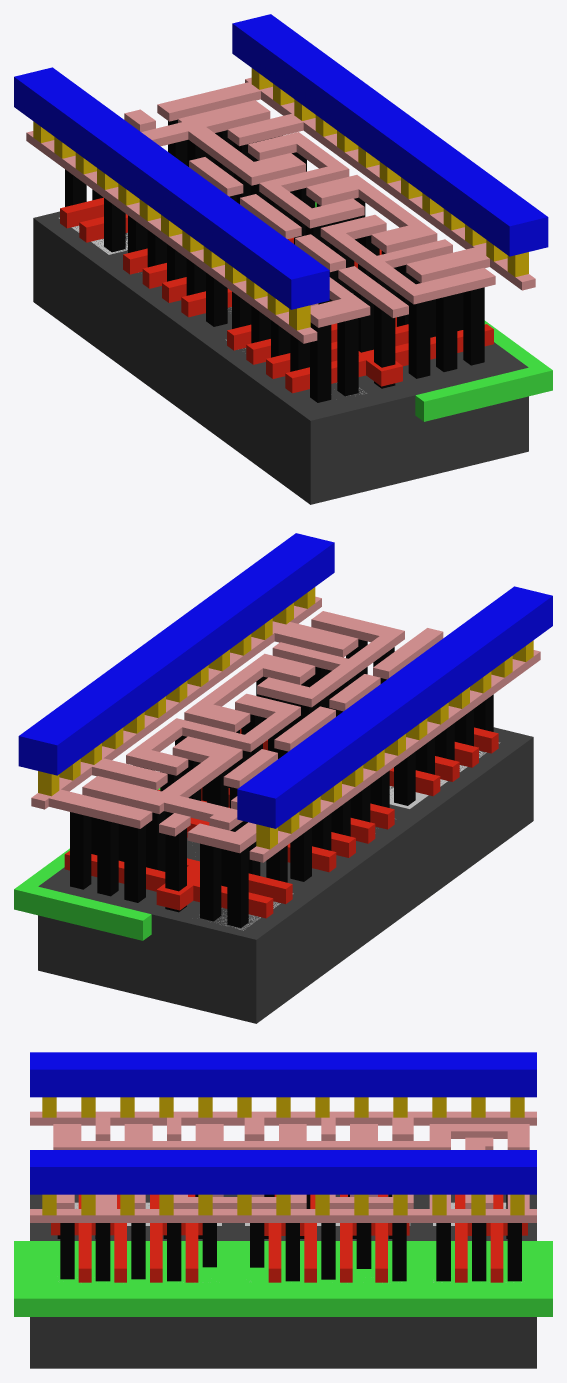
File: sky130_fd_sc_hd__o41ai_2.obj
The picture shows the model from 3 angles, top to bottom: view 1: azimuth 30°, elevation 25°; view 2: azimuth 150°, elevation 25°; view 3: azimuth 270°, elevation 25°; orthographic projection. The views are drawn at different scales.
Parts seen in each view (by area): view 1: subs, metal1, li, licon, poly, mcon, nwell; view 2: subs, metal1, li, licon, poly, mcon, nwell; view 3: metal1, nwell, subs, li, licon, poly, mcon.
Part boxes in pixels (x1,y1,x2,y2): subs: (33, 211, 528, 504); metal1: (14, 14, 548, 309); li: (26, 77, 535, 343); licon: (65, 119, 484, 402); poly: (60, 197, 493, 393); mcon: (33, 68, 528, 330); nwell: (315, 202, 552, 421); subs: (38, 727, 533, 1023); metal1: (18, 533, 552, 828); li: (31, 596, 540, 862); licon: (70, 639, 493, 927); poly: (64, 727, 498, 918); mcon: (38, 587, 533, 849); nwell: (14, 788, 160, 940); metal1: (30, 1052, 536, 1194); nwell: (14, 1241, 552, 1316); subs: (30, 1194, 536, 1368); li: (30, 1111, 536, 1222); licon: (57, 1194, 521, 1281); poly: (51, 1194, 527, 1282); mcon: (42, 1097, 524, 1215).
Bounding box in the file's own units: 3.2 × 2.74 × 6.36.
